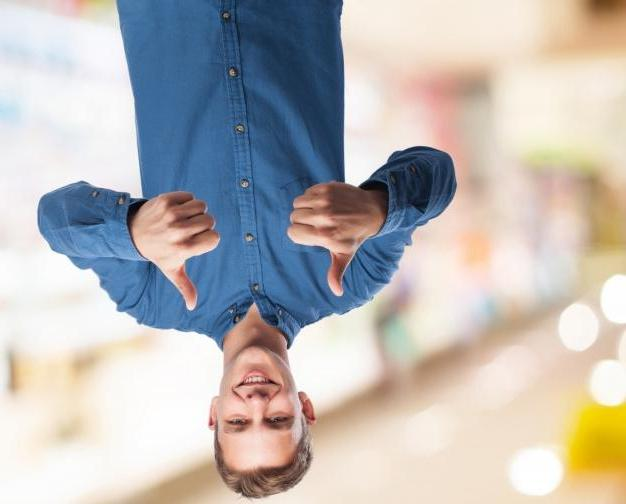thumbsdown: (156, 192, 220, 310), (287, 181, 348, 297)
